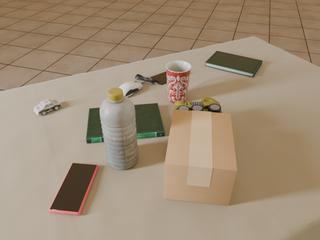book: (86, 103, 165, 143), (205, 51, 262, 77)
bottle: (100, 88, 138, 170)
box: (164, 109, 237, 206)
cup: (166, 61, 192, 103)
mouse: (119, 81, 142, 97)
phone: (49, 163, 98, 215), (151, 72, 167, 85)
toy_car: (173, 97, 222, 113), (34, 99, 62, 115)
